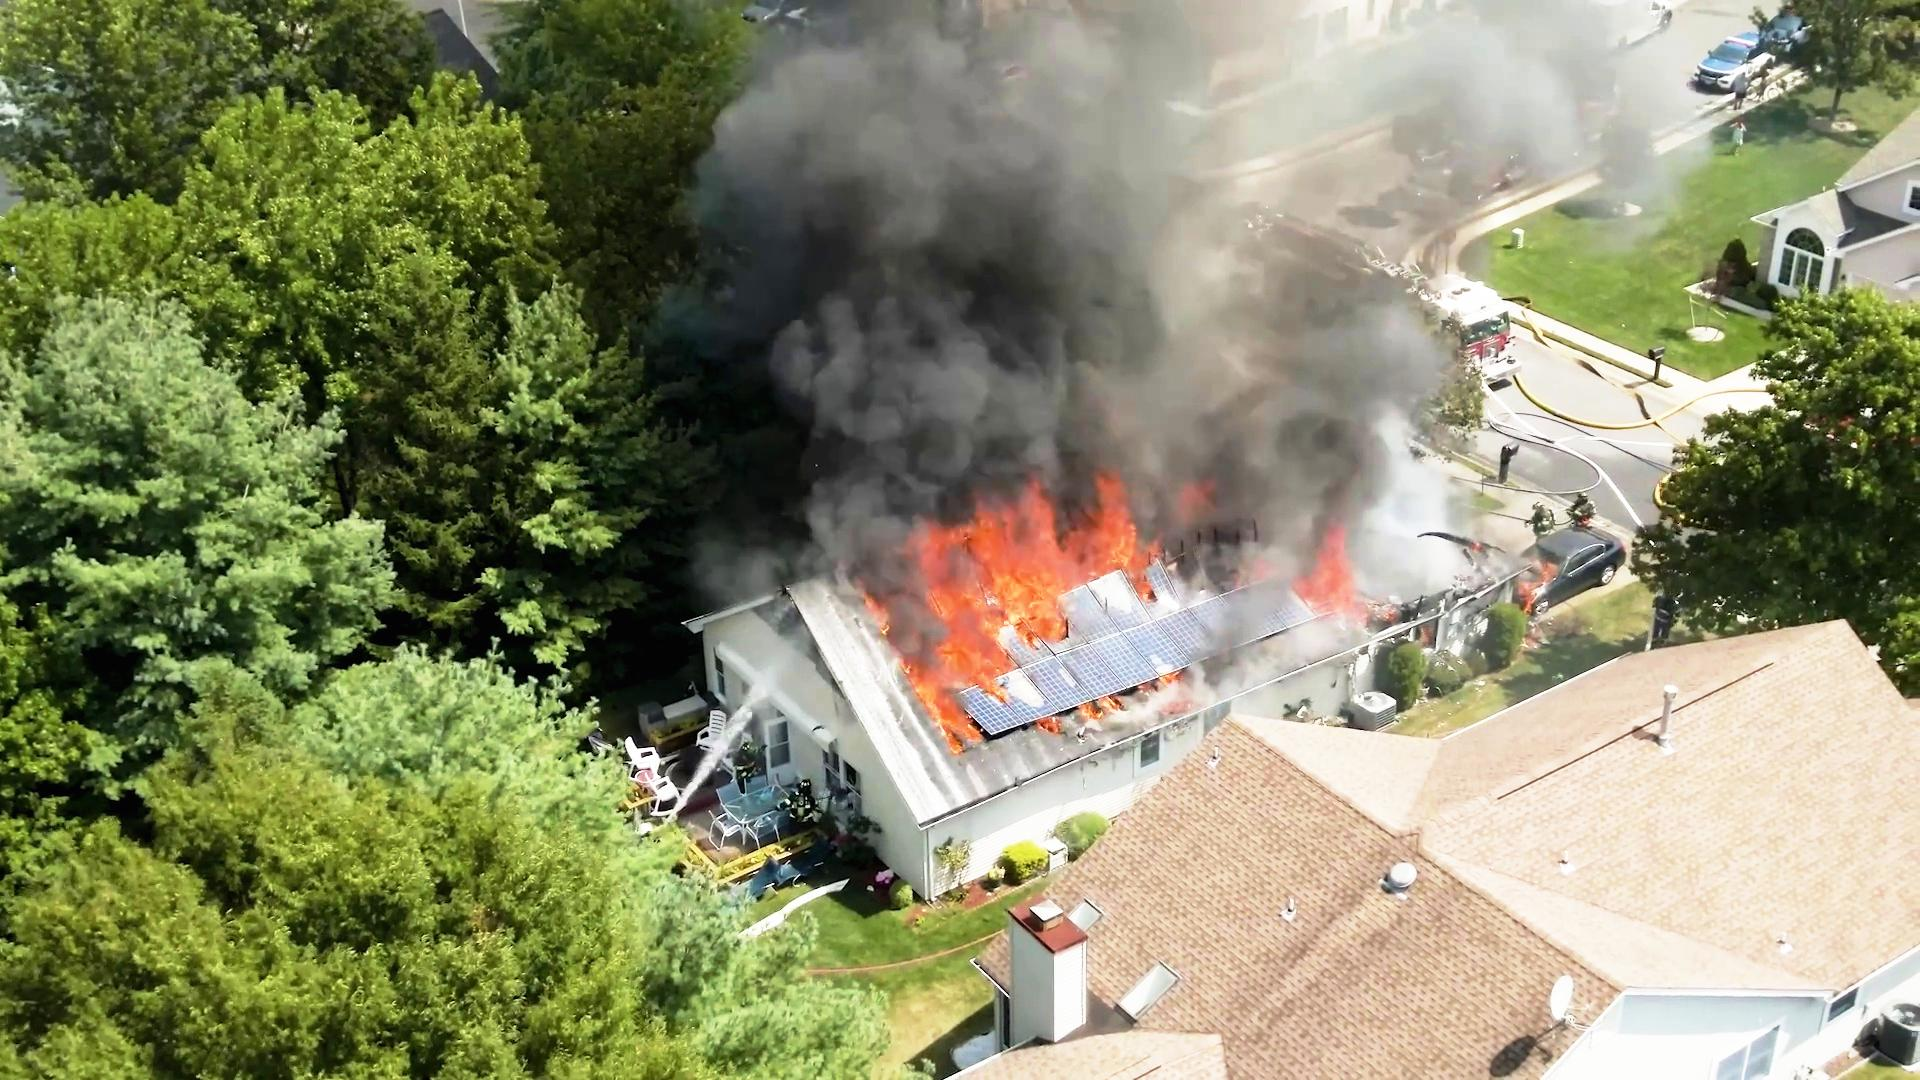fire: (901, 473, 1160, 678)
smoke: (766, 55, 1163, 435)
